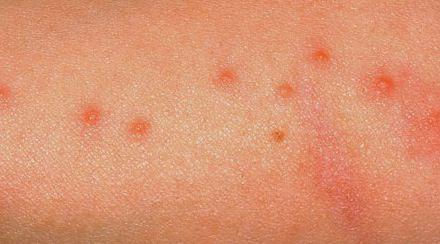Fleas: (296, 114, 376, 238), (358, 63, 400, 105), (71, 101, 111, 136), (420, 109, 439, 147), (126, 116, 152, 141), (214, 67, 238, 92), (309, 47, 333, 68), (274, 80, 297, 101), (0, 83, 14, 108), (271, 127, 288, 145)
